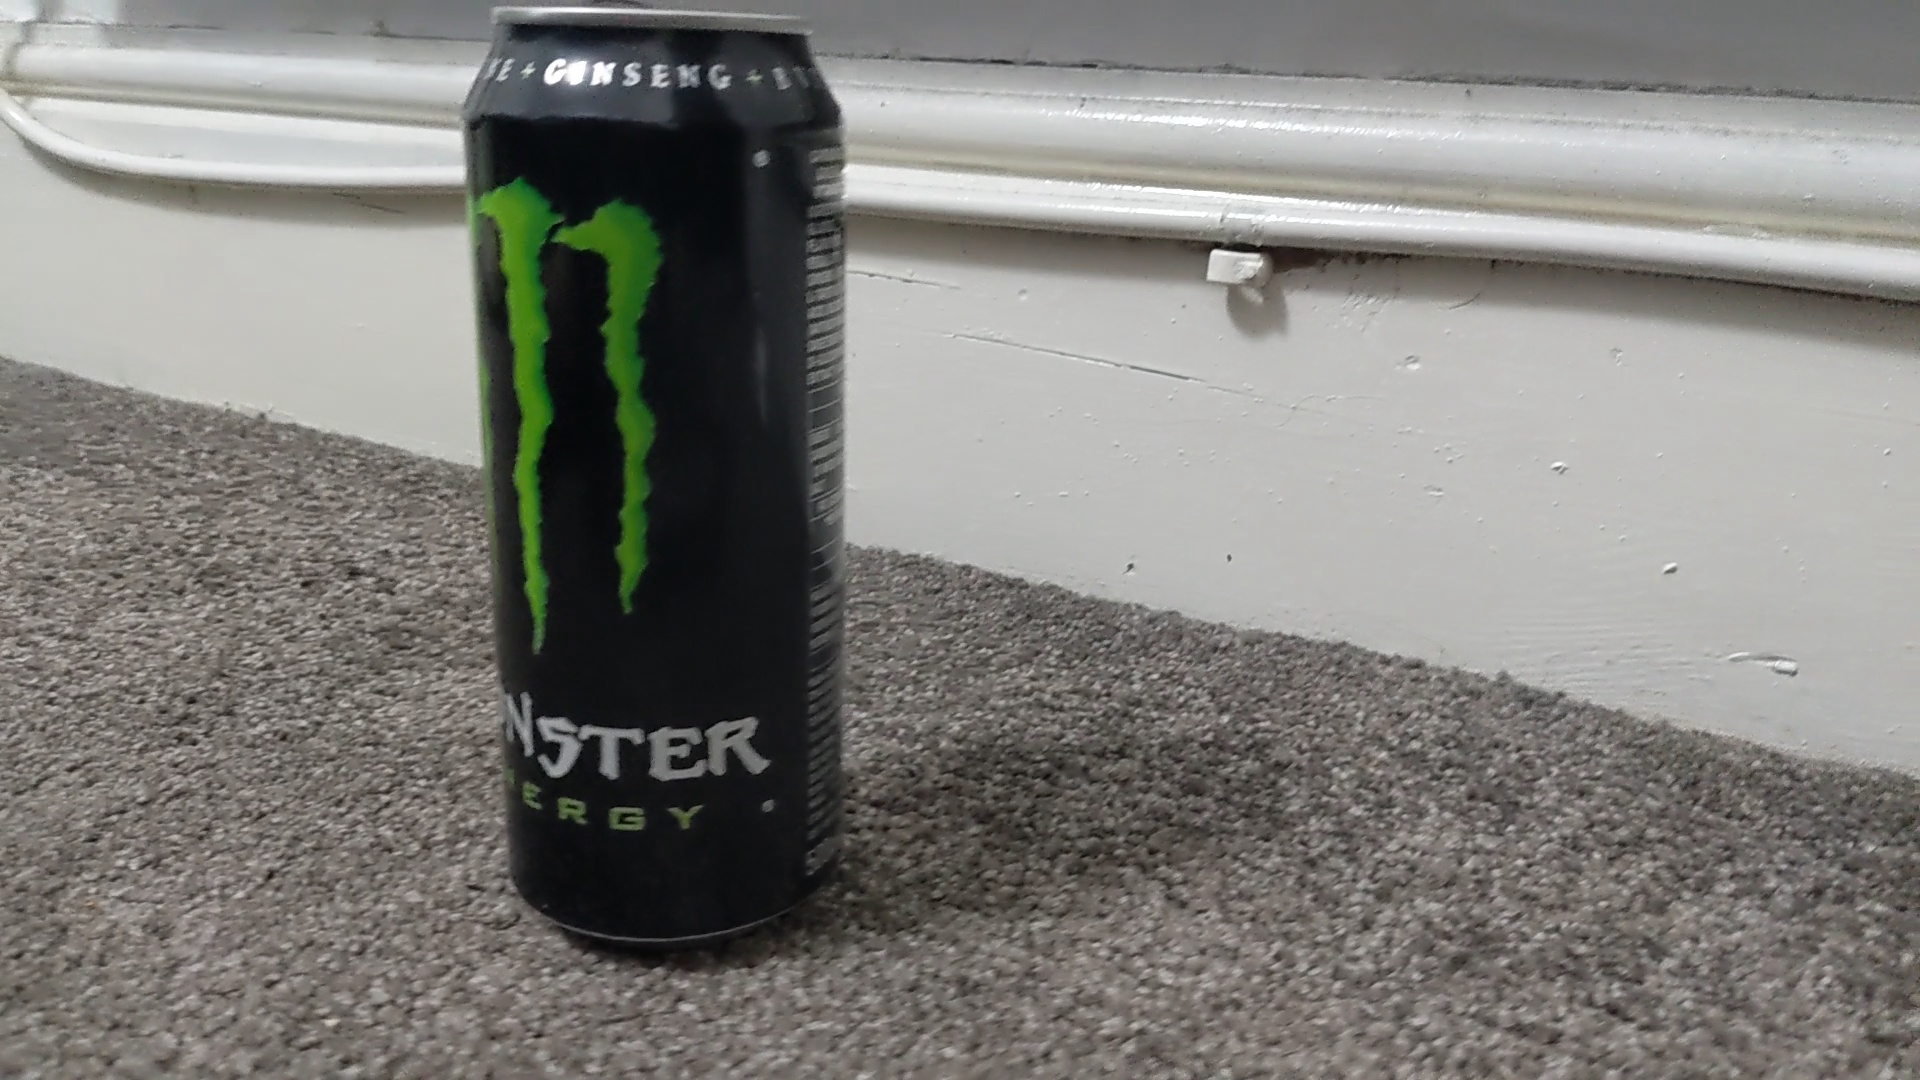monster-original: (463, 4, 844, 945)
